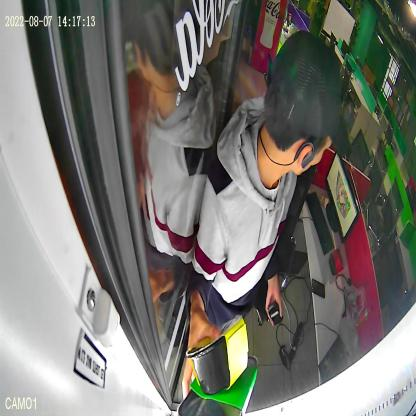green: (178, 354, 260, 416)
yellow: (186, 314, 250, 396)
